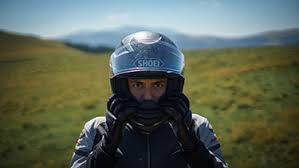com_capacete: (100, 27, 194, 137)
